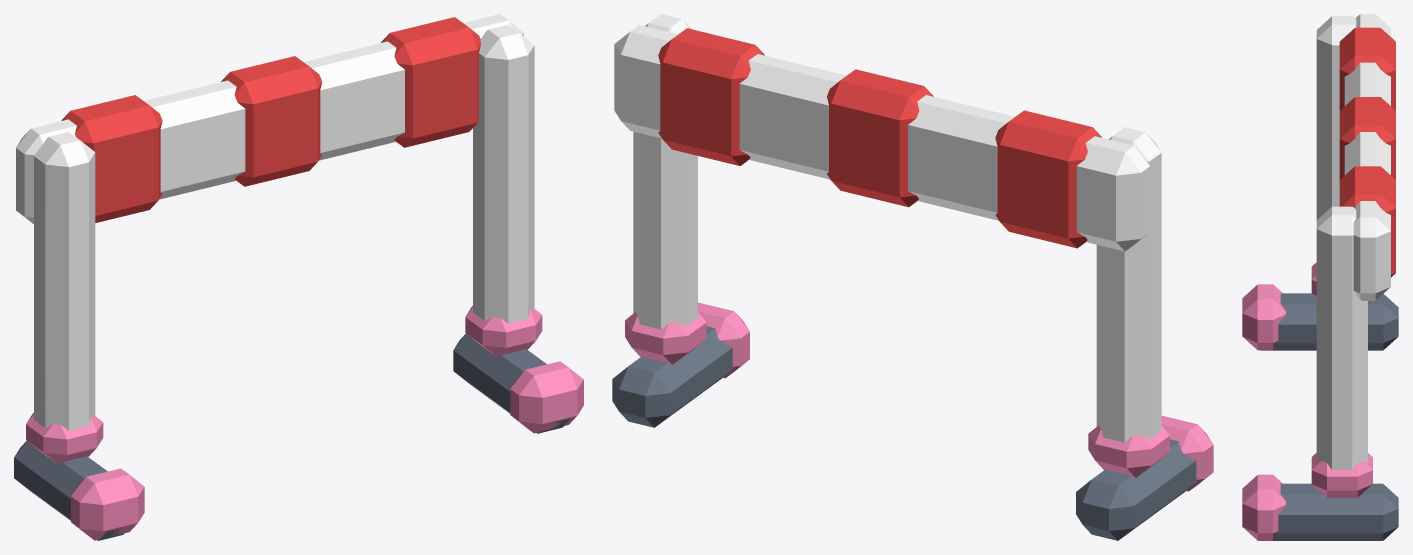
File: Prop_sakura_schoolyard_TrackHurdle.glb
3 views of the same model, side by side, from view 1: azimuth 30°, elevation 25°; view 2: azimuth 150°, elevation 25°; view 3: azimuth 270°, elevation 25° (orthographic). The views are drawn at different scales.
Visible parts, largest first — view 1: White_FFFFFF, HurdleRed_F04848, Sakura_FF8FC0, StoneDark_6B7686; view 2: White_FFFFFF, HurdleRed_F04848, StoneDark_6B7686, Sakura_FF8FC0; view 3: White_FFFFFF, StoneDark_6B7686, HurdleRed_F04848, Sakura_FF8FC0.
Boxes of the visible parts, <box> form: White_FFFFFF: <box>16,14,534,430</box>; HurdleRed_F04848: <box>61,17,480,222</box>; Sakura_FF8FC0: <box>26,306,583,540</box>; StoneDark_6B7686: <box>14,333,570,540</box>; White_FFFFFF: <box>614,14,1161,442</box>; HurdleRed_F04848: <box>658,28,1101,248</box>; StoneDark_6B7686: <box>612,326,1197,540</box>; Sakura_FF8FC0: <box>625,302,1213,491</box>; White_FFFFFF: <box>1316,14,1390,469</box>; StoneDark_6B7686: <box>1260,293,1398,540</box>; HurdleRed_F04848: <box>1339,27,1395,277</box>; Sakura_FF8FC0: <box>1242,262,1372,540</box>.
Bounding box in the file's own units: 5.05 × 3.55 × 1.52.
